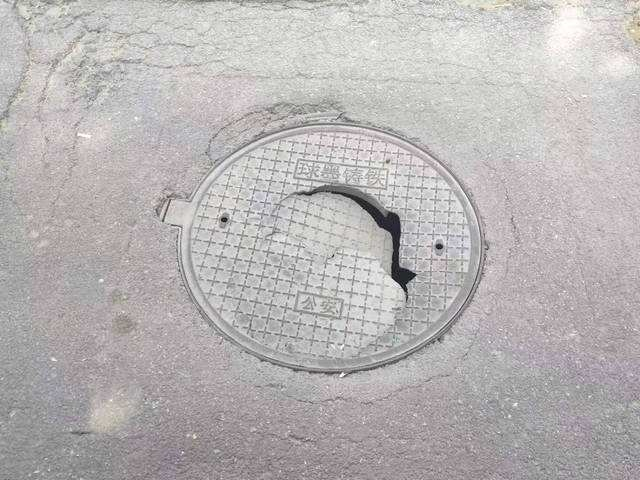broke: (156, 122, 483, 372)
